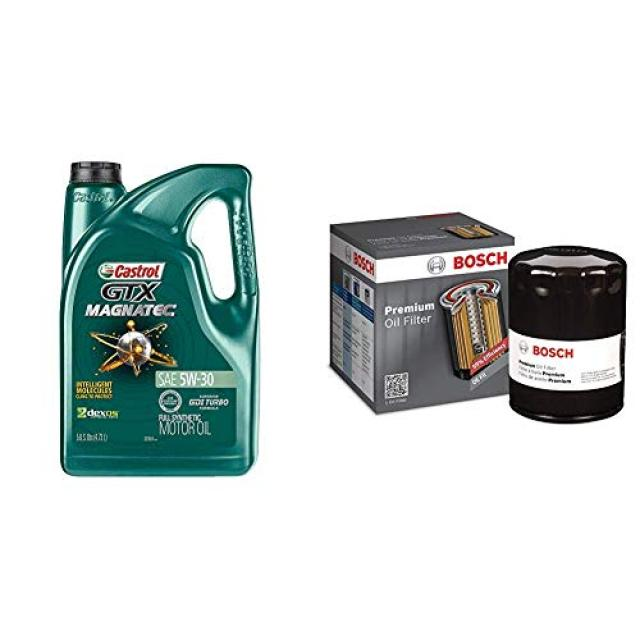motor_oil: (55, 150, 272, 484)
oil_filter: (510, 240, 630, 428)
